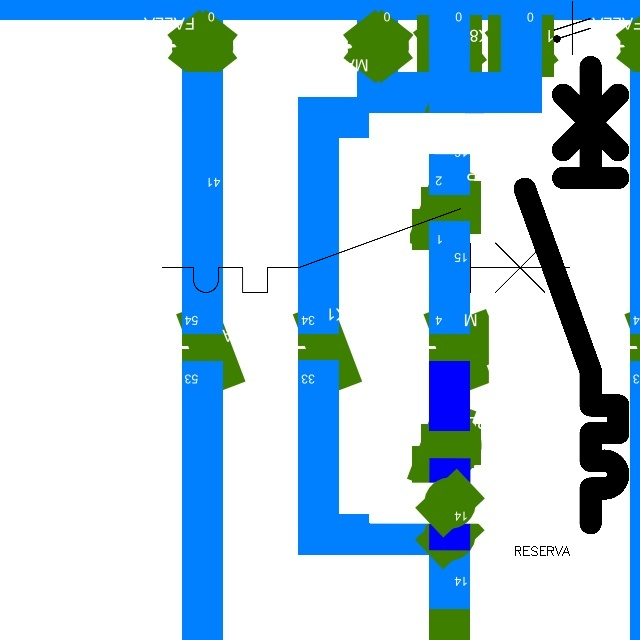interruptor_termomagnetico: (513, 55, 630, 535), (152, 198, 579, 303)
